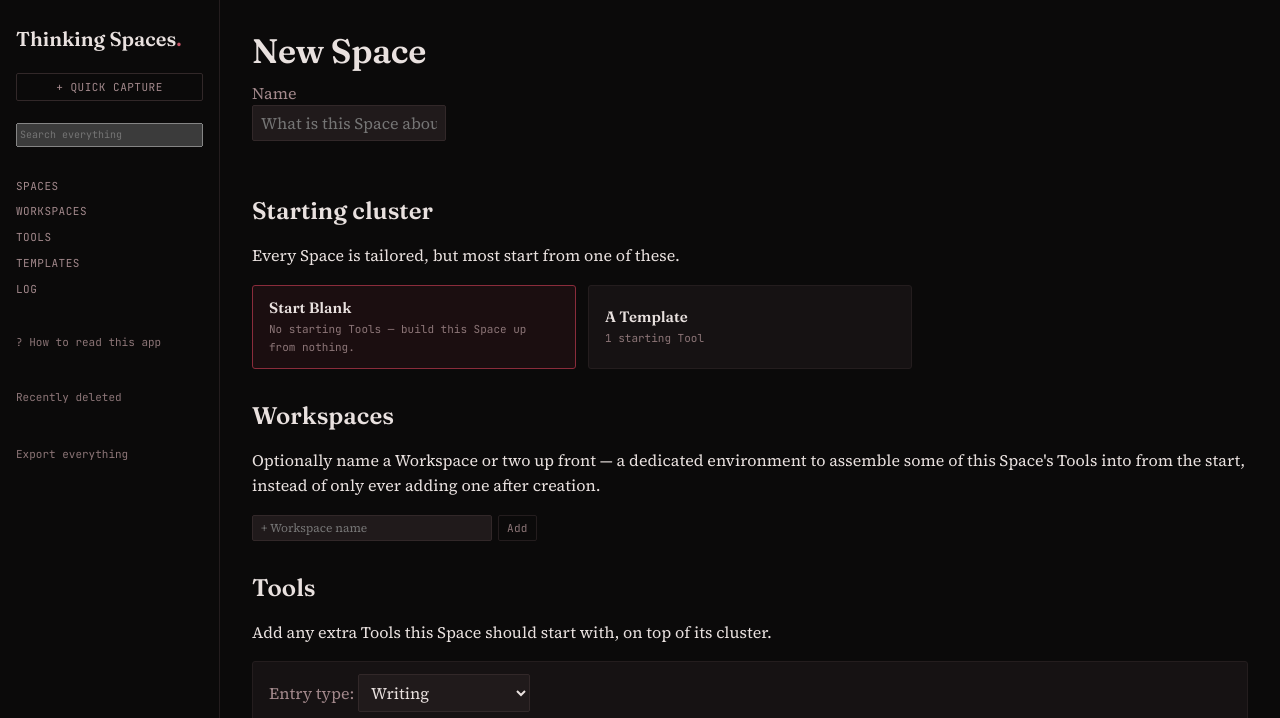
CreateSpace: starting cluster › selecting a Template shows its preview and marks it selected
The image size is (1280, 718).
Click the heading "A Template".
click(646, 316)  # box [605,307,688,326]
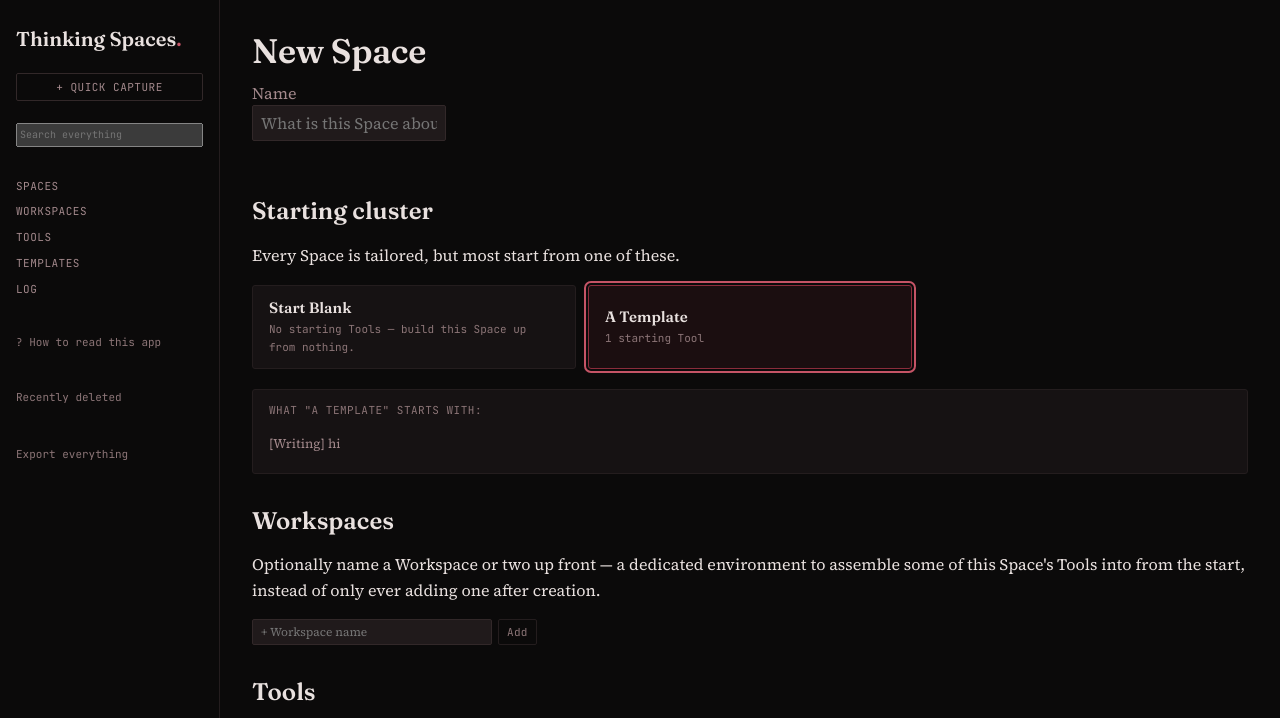
Expected: the text "What \"A Template\" starts with:" is shown, [269,403,482,417]
